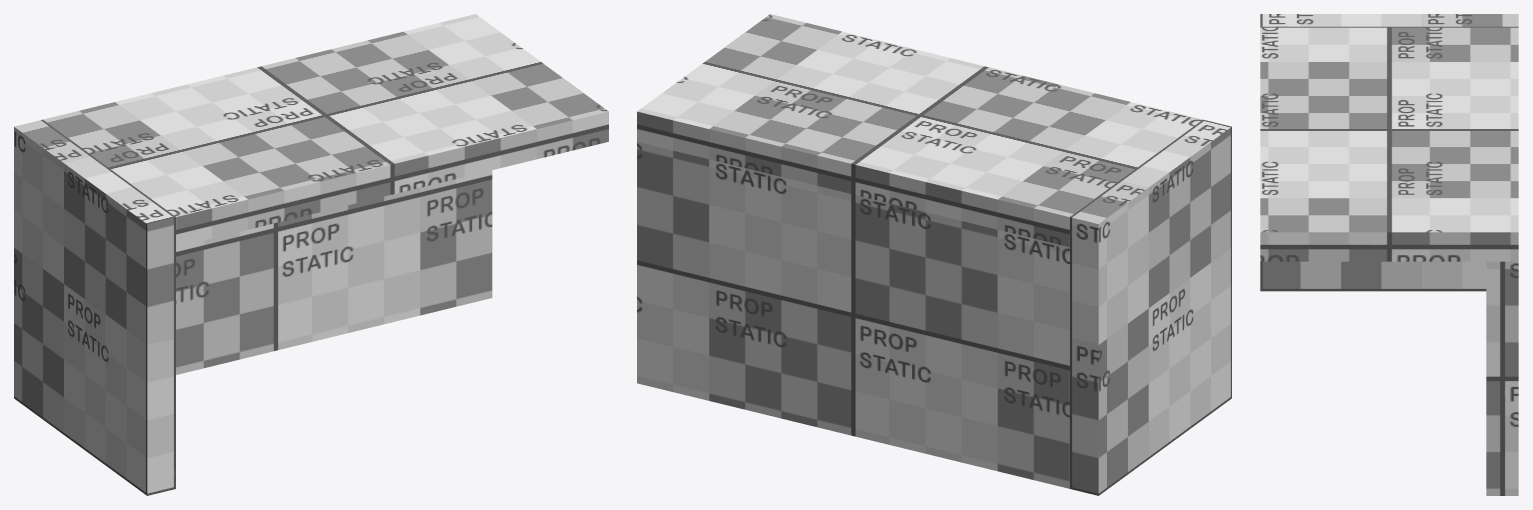
Rendered from JMB_Desk_L.fbx.
3 views of the same model, side by side, from view 1: azimuth 30°, elevation 25°; view 2: azimuth 150°, elevation 25°; view 3: azimuth 270°, elevation 25° (orthographic). The views are drawn at different scales.
Parts seen in each view (by area): view 1: Desk_Top__1_, Desk_Side__1_, Desk_Front__1_; view 2: Desk_Front__1_, Desk_Top__1_, Desk_Side__1_; view 3: Desk_Top__1_, Desk_Side__1_, Desk_Front__1_.
Part boxes in pixels (<box>): Desk_Top__1_: <box>43,14,608,247</box>; Desk_Side__1_: <box>14,119,175,495</box>; Desk_Front__1_: <box>176,170,492,374</box>; Desk_Front__1_: <box>637,142,1069,488</box>; Desk_Top__1_: <box>637,14,1202,247</box>; Desk_Side__1_: <box>1070,119,1231,495</box>; Desk_Top__1_: <box>1260,27,1518,261</box>; Desk_Side__1_: <box>1260,14,1518,291</box>; Desk_Front__1_: <box>1486,261,1518,495</box>.
Size of the model in its own units: 160 by 90 by 80.
